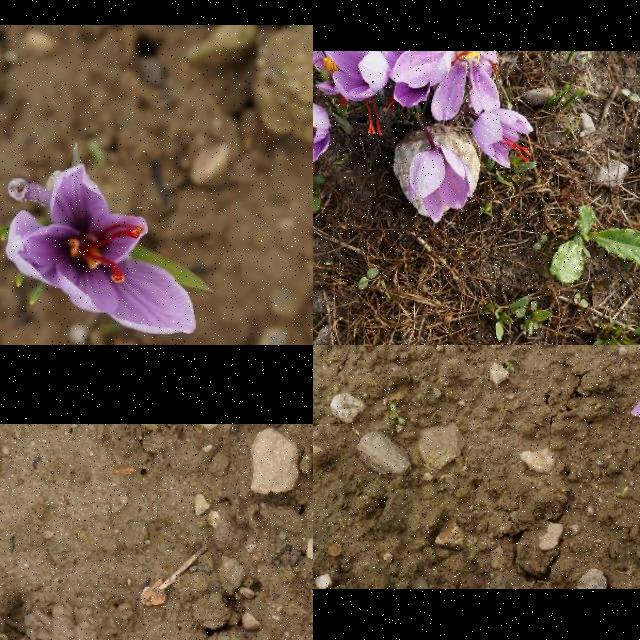flower: (8, 166, 196, 334), (407, 146, 471, 224), (470, 109, 534, 170), (313, 103, 331, 175)
overlap: (313, 52, 501, 136)
